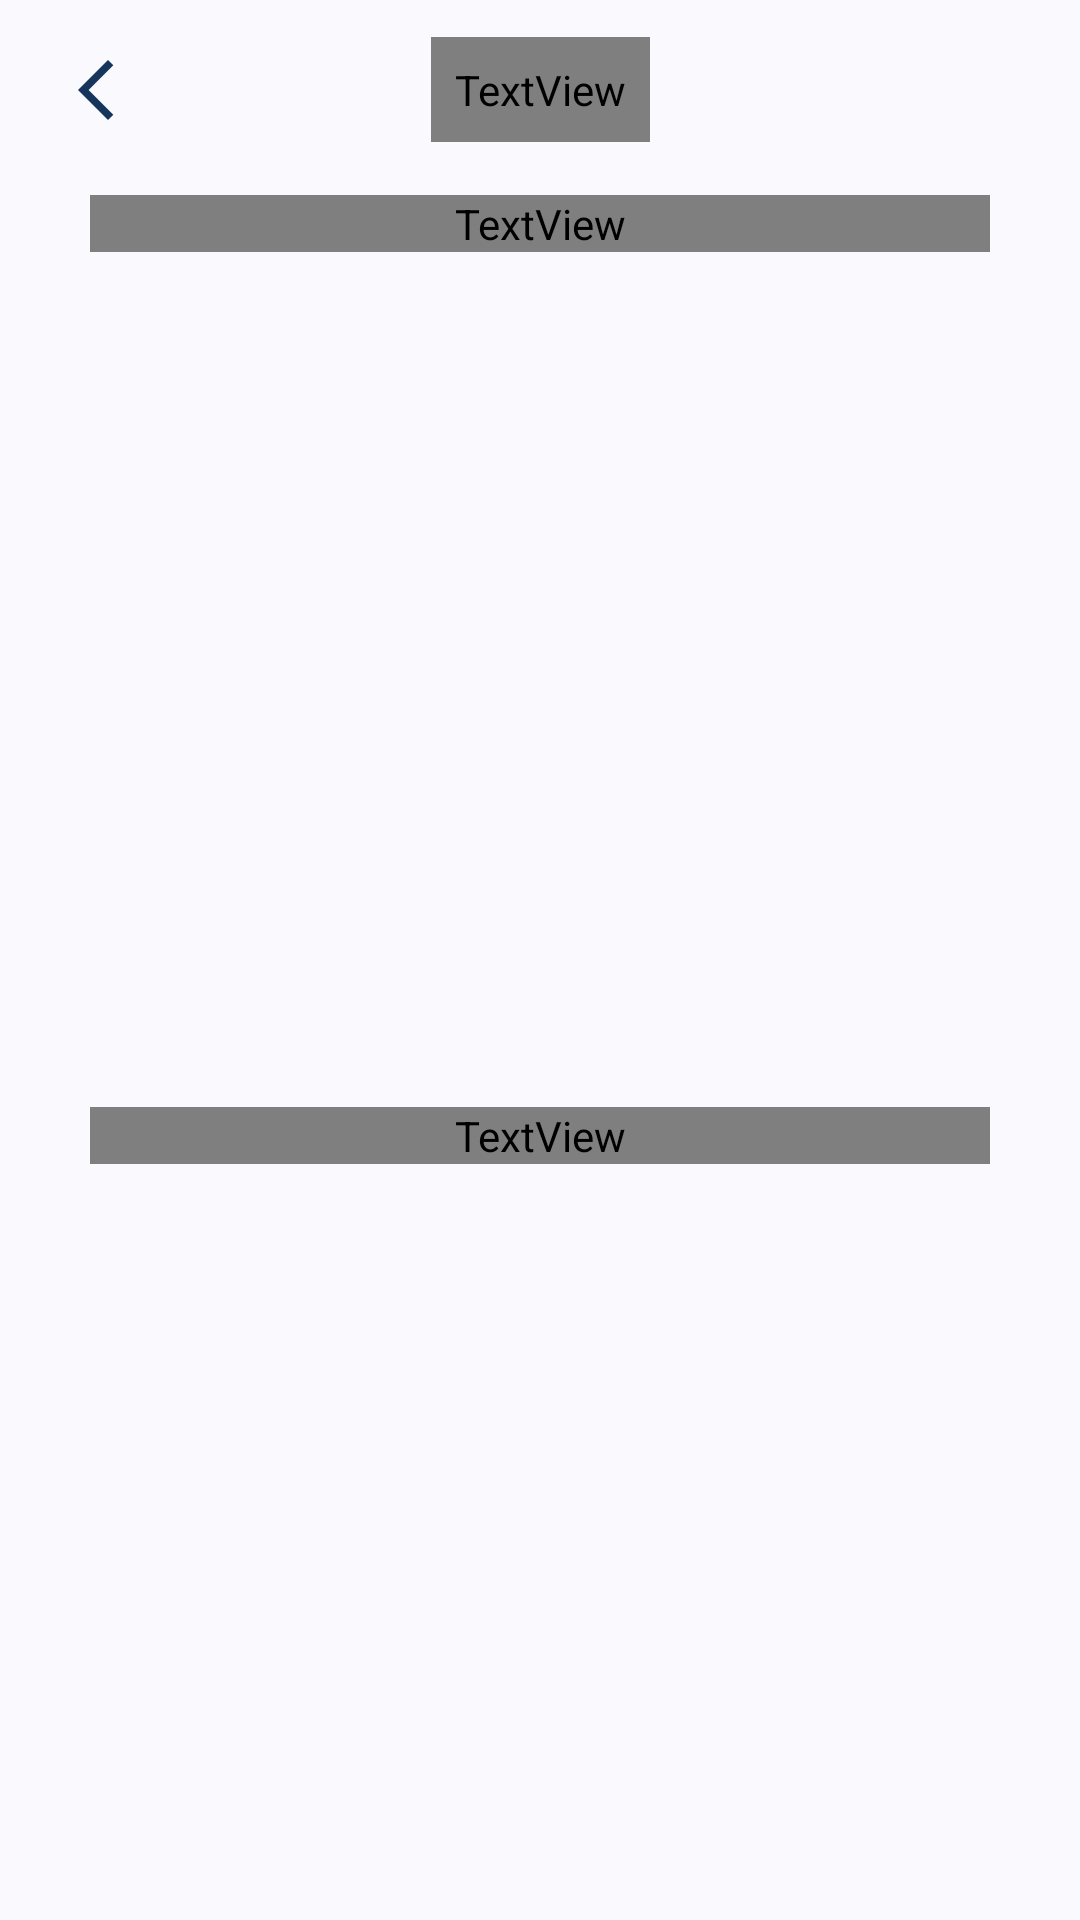

Named icons in this screenshot (1080px x 1920px) and their bounding boxes, (x1, y1, x2, y2):
Kembali: (78, 60, 113, 120)
